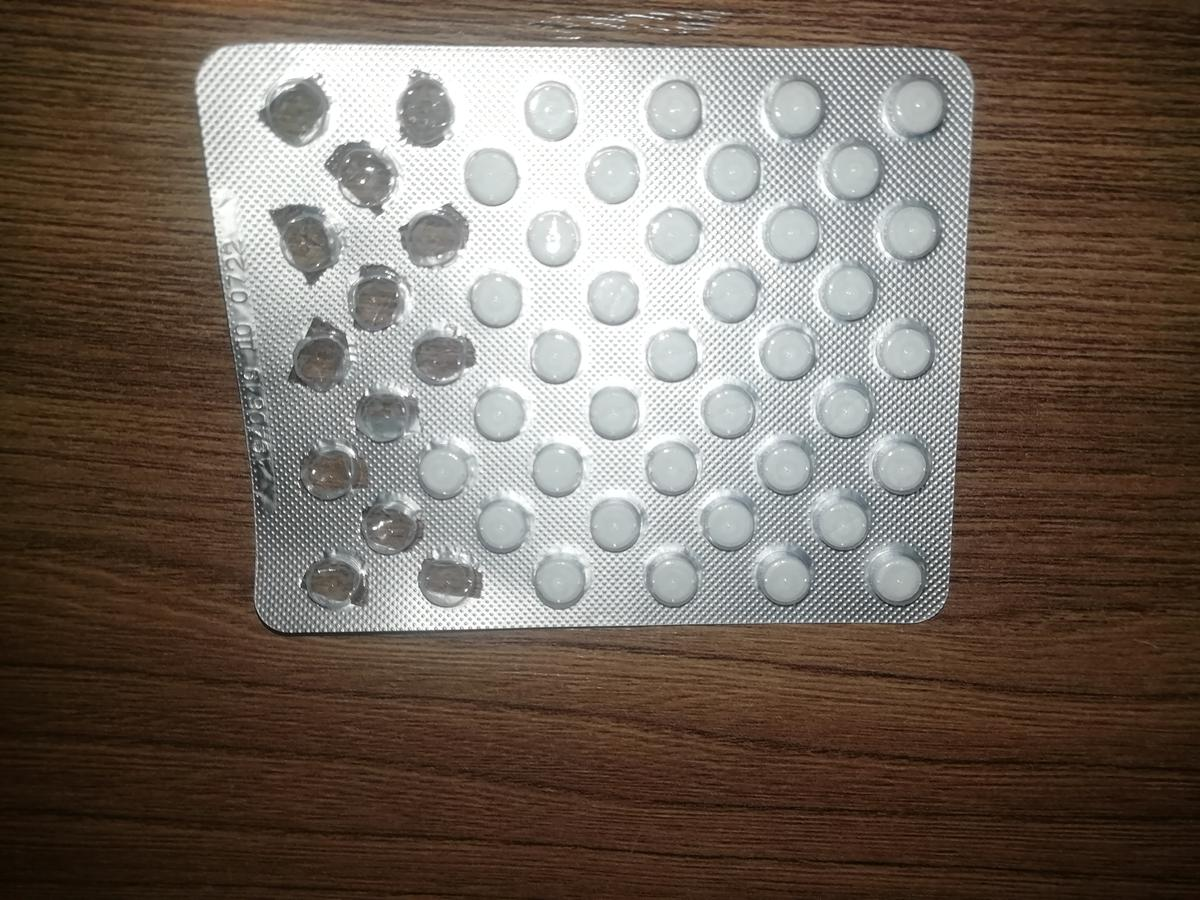tablet: (521, 80, 584, 145), (458, 144, 521, 209), (466, 271, 529, 336), (467, 384, 530, 449), (417, 440, 480, 505), (470, 488, 533, 553), (533, 543, 596, 608), (527, 436, 590, 501), (526, 322, 589, 387), (520, 206, 583, 271), (580, 142, 643, 207), (577, 267, 640, 332), (584, 379, 647, 444), (589, 492, 652, 557), (641, 545, 704, 610), (640, 435, 703, 500), (645, 326, 708, 391), (645, 207, 708, 272), (641, 80, 704, 145), (769, 73, 832, 138), (699, 139, 762, 204), (760, 201, 823, 266), (698, 261, 761, 326), (760, 324, 823, 389), (700, 376, 763, 441), (756, 437, 819, 502), (701, 498, 764, 563), (755, 543, 818, 608), (812, 494, 875, 559), (858, 553, 921, 618), (868, 427, 931, 492), (817, 374, 880, 439), (873, 316, 936, 381), (818, 264, 881, 329), (880, 194, 943, 259), (824, 147, 887, 212), (886, 75, 949, 140)
